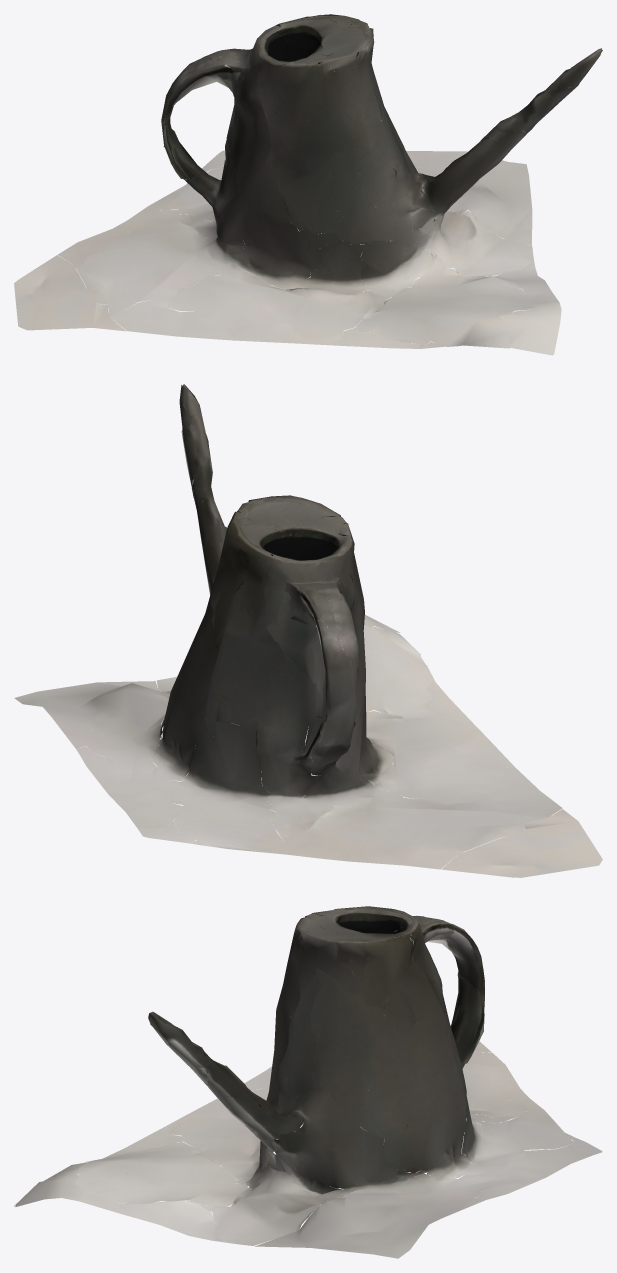
File: corner ux edit dec.fbx
3 views of the same model, one above another, from view 1: azimuth 30°, elevation 25°; view 2: azimuth 150°, elevation 25°; view 3: azimuth 270°, elevation 25° (orthographic). The views are drawn at different scales.
Parts seen in each view (by area): view 1: Untitled; view 2: Untitled; view 3: Untitled.
Part boxes in pixels (box(x1,y1,x2,y2)): Untitled: box(14, 14, 602, 355); Untitled: box(14, 384, 602, 877); Untitled: box(14, 906, 602, 1258).
Bounding box in the file's own units: 57.79 × 25.46 × 52.47.
